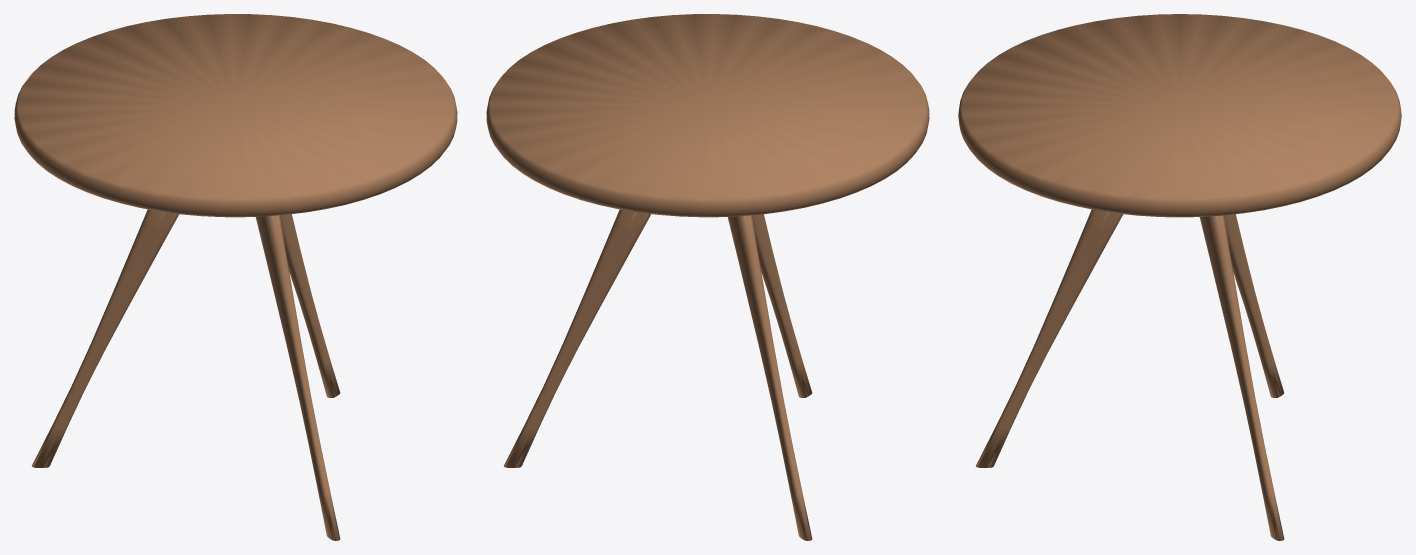
Rendered from Table2 fbx.fbx.
3 renders of one model, left to right at view 1: azimuth 30°, elevation 25°; view 2: azimuth 150°, elevation 25°; view 3: azimuth 270°, elevation 25°, orthographic.
Visible parts, largest first — view 1: RealDWGPart; view 2: RealDWGPart; view 3: RealDWGPart.
Part boxes in pixels (x1,y1,x2,y2): RealDWGPart: (14,14,457,540); RealDWGPart: (486,14,929,540); RealDWGPart: (958,14,1401,540).
Bounding box in the file's own units: 38.88 × 34.8 × 38.88.
